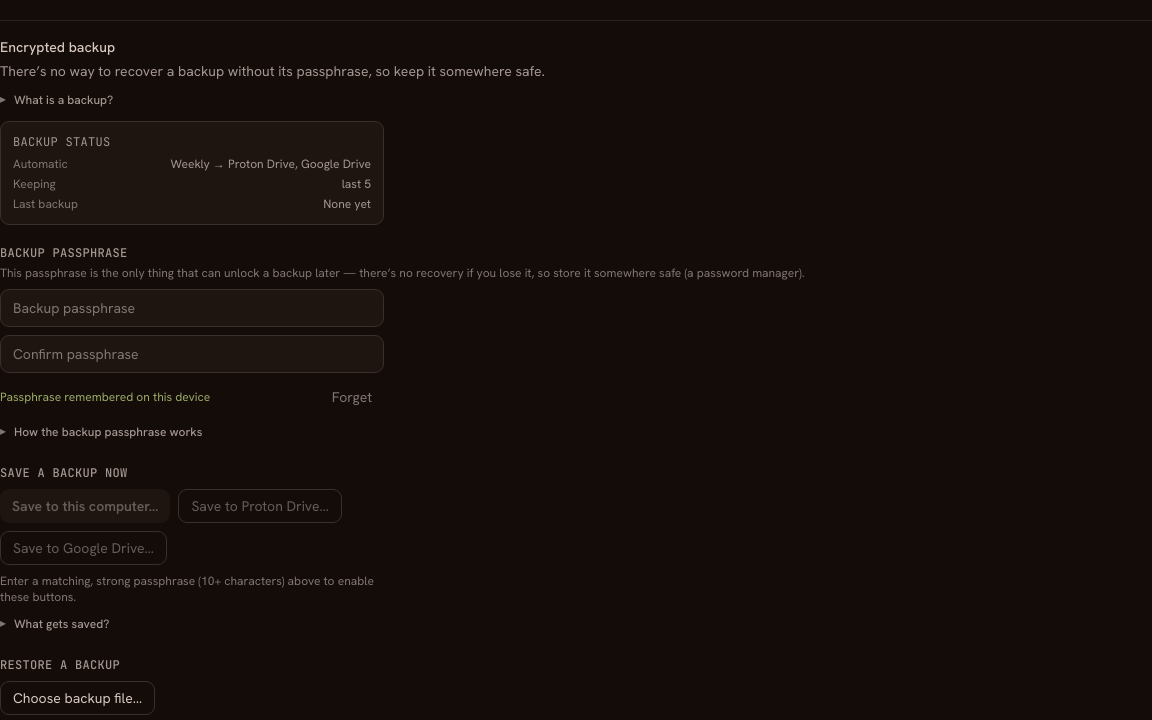
it: Forget the backup passphrase › asks first — the click alone destroys nothing
Expected: the text "Passphrase remembered on this device" is shown, top-left (0, 389), bottom-right (210, 405)
Click the button "Forget".
click(352, 397)  # box top-left (320, 381), bottom-right (384, 413)
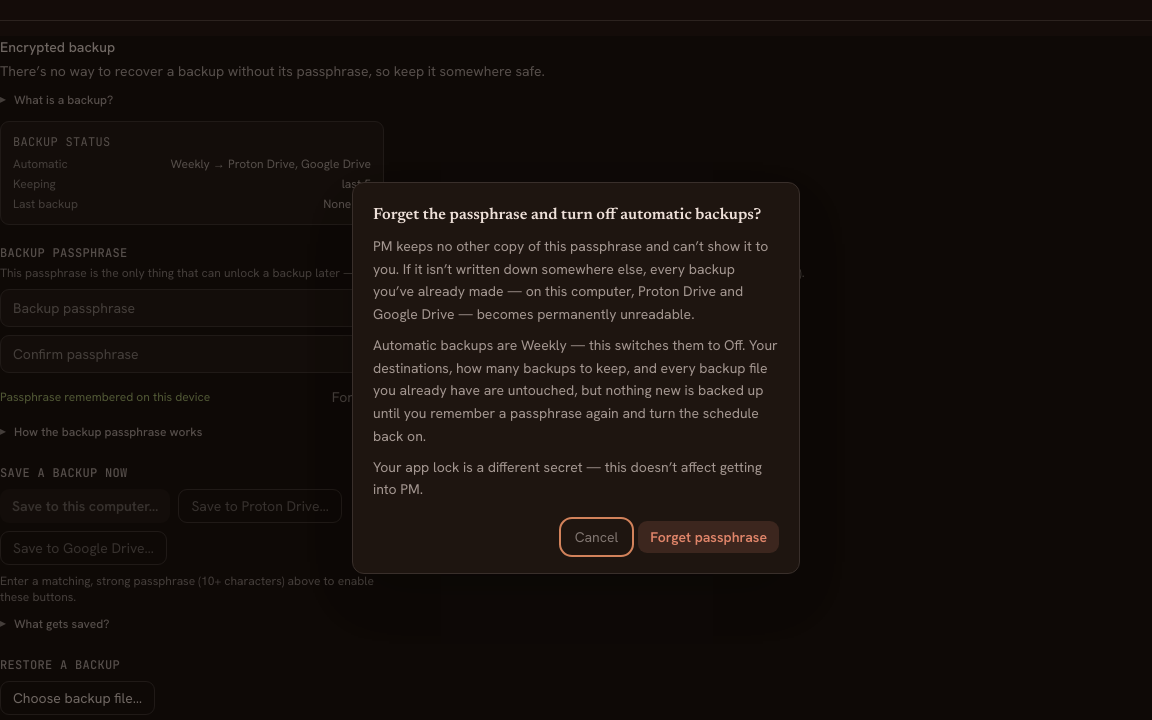
Result: the dialog is shown at top-left (352, 182), bottom-right (800, 574)
